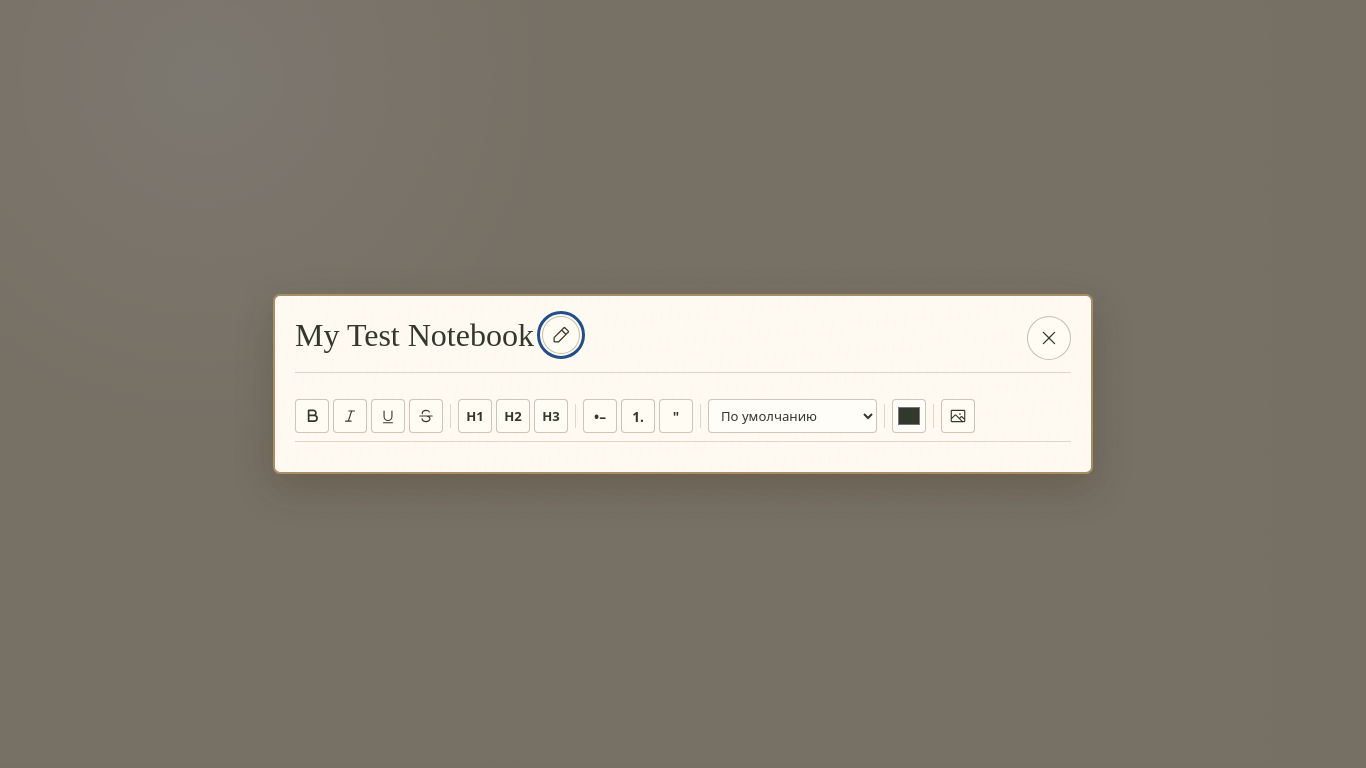
NotebookDialog › discards changes on Escape and restores original title
The width and height of the screenshot is (1366, 768).
Click the button named "Изменить": {"x": 561, "y": 335} x1=542 y1=316 x2=580 y2=354
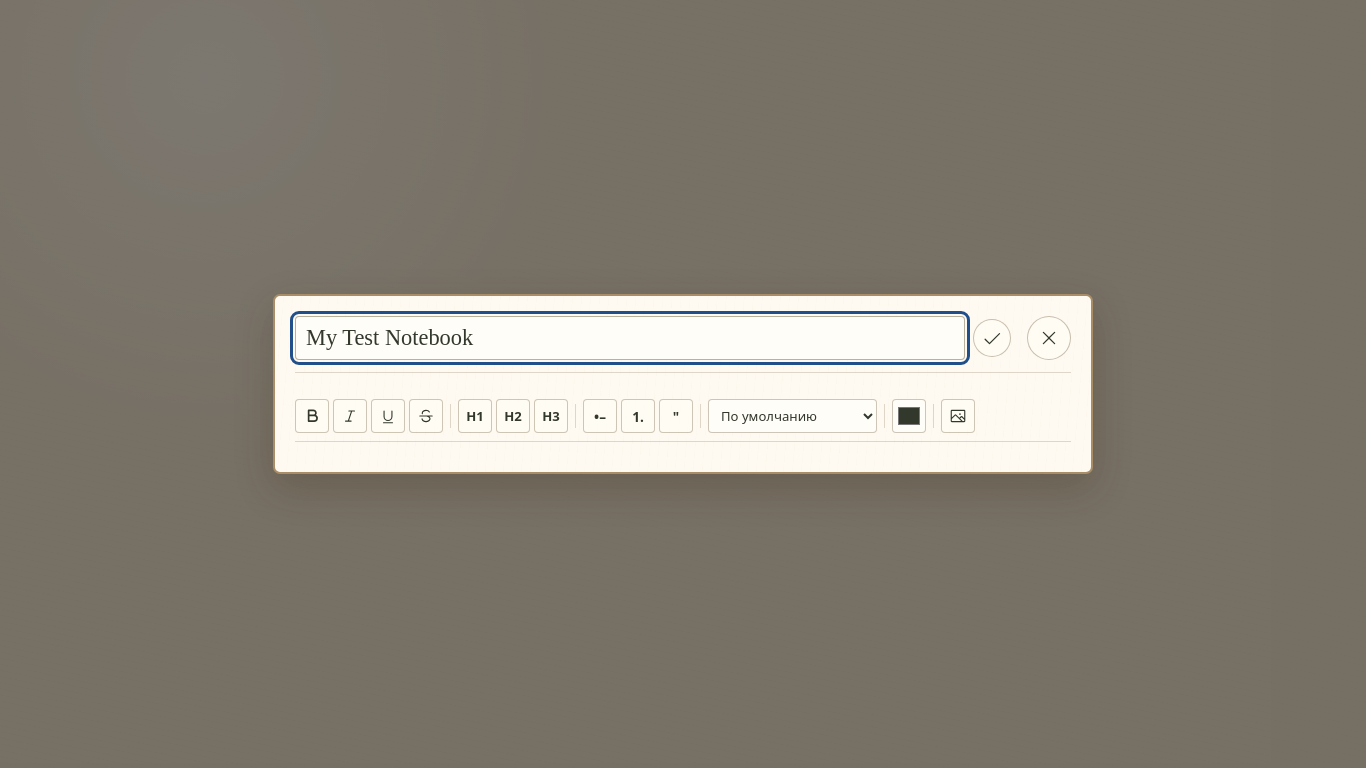
Replace the text in the field with "Should not save": {"x": 630, "y": 338} x1=295 y1=316 x2=965 y2=360
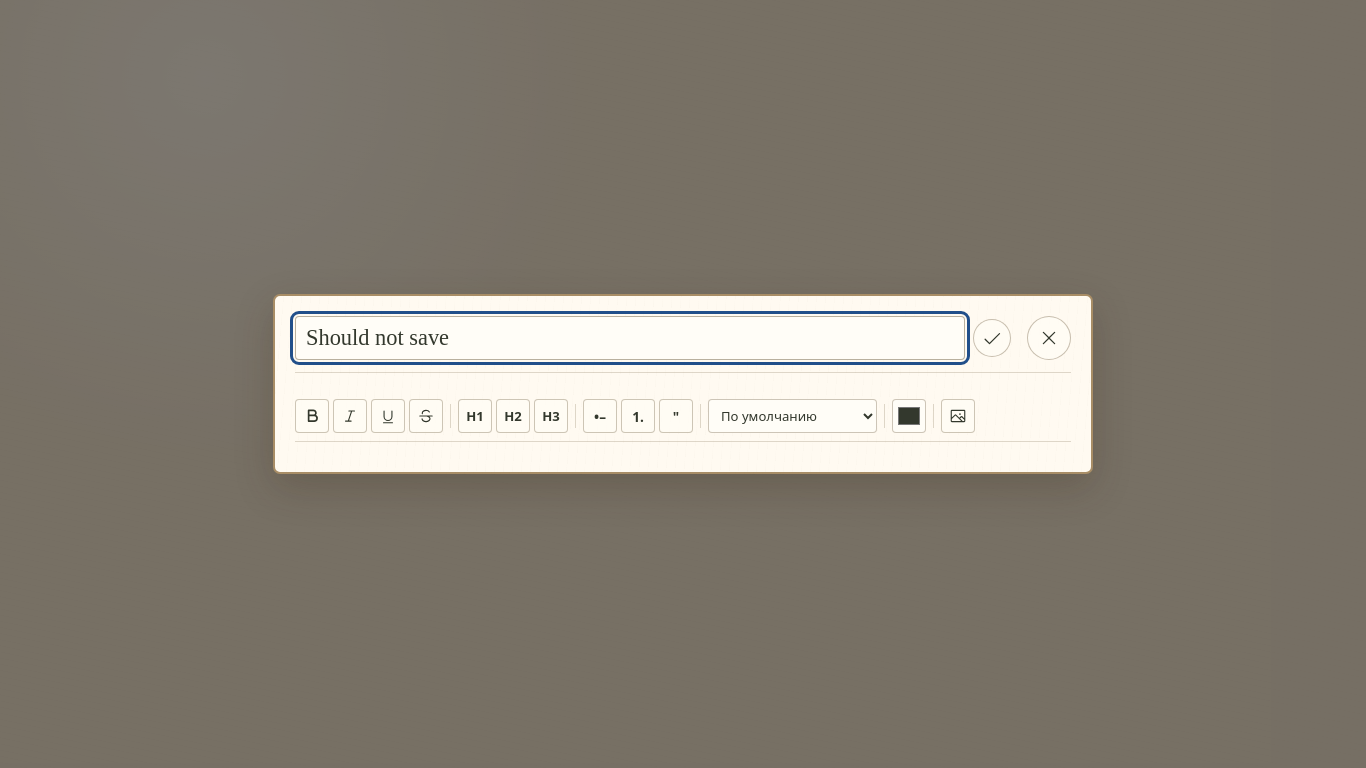
Press Escape in the field, box x1=295 y1=316 x2=965 y2=360
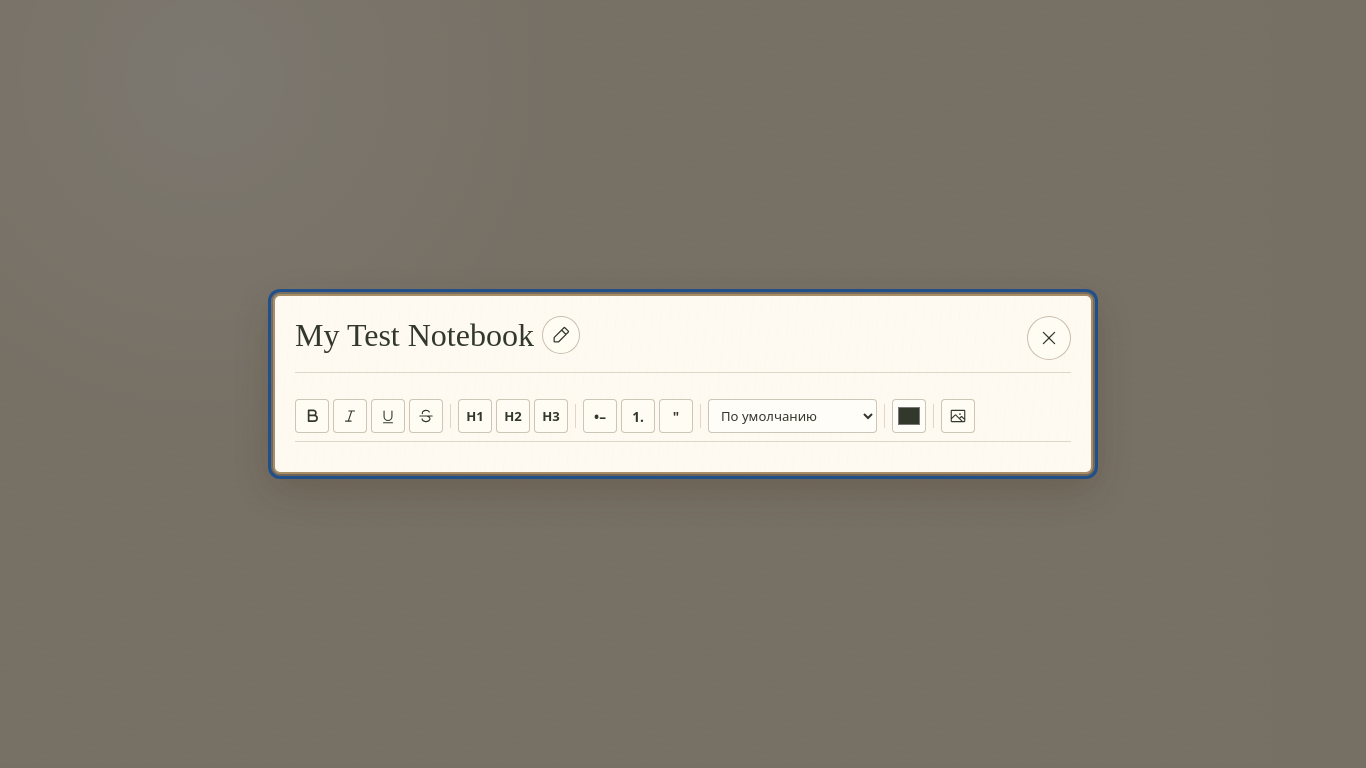
Expected: the field is gone
Expected: the heading "My Test Notebook" is shown, x1=295 y1=316 x2=534 y2=354
